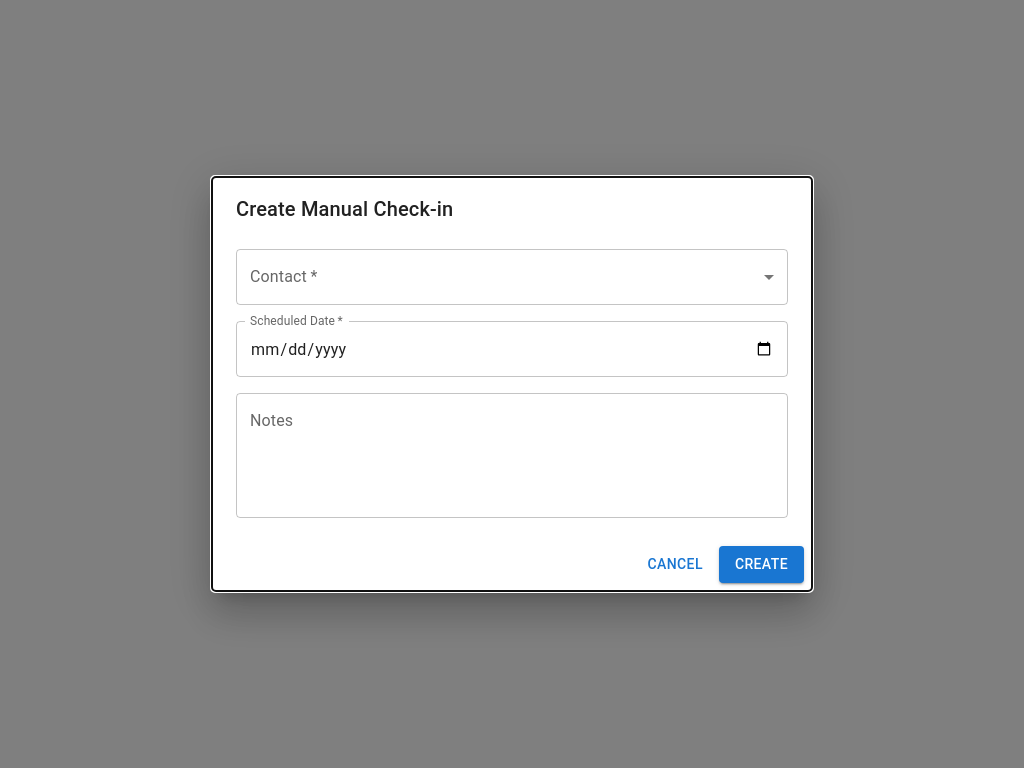
Test: CreateCheckInModal › should display loading state when saving
The image size is (1024, 768).
Click the dropdown named "contact".
click(512, 277)  # box [236, 249, 788, 305]
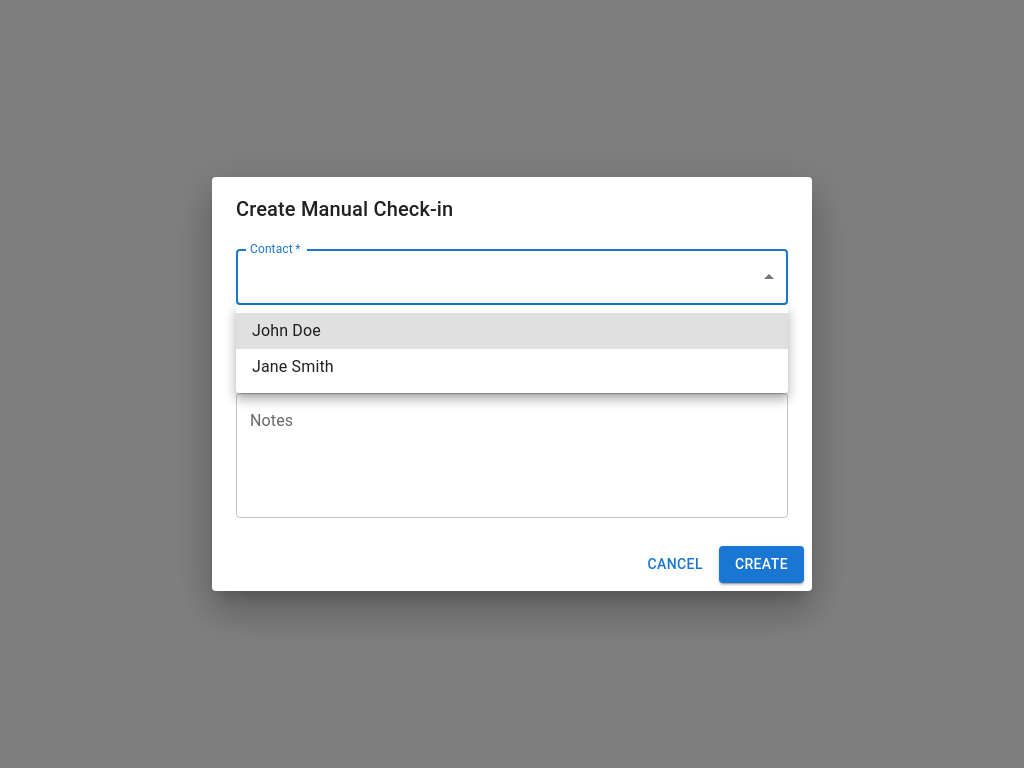
Click the option "John Doe".
click(286, 330)  # box [236, 313, 788, 349]
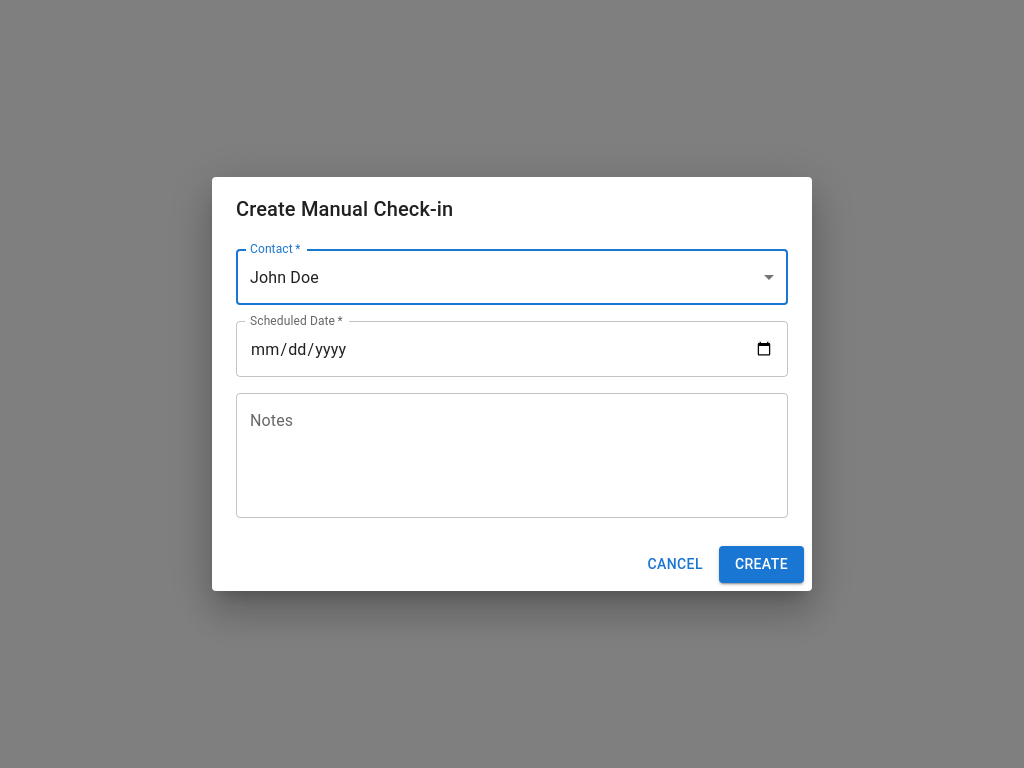
Type "2026-03-15" into the date field labelled "Scheduled Date *".
click(512, 349); type("2026-03-15")  # box [236, 321, 788, 377]
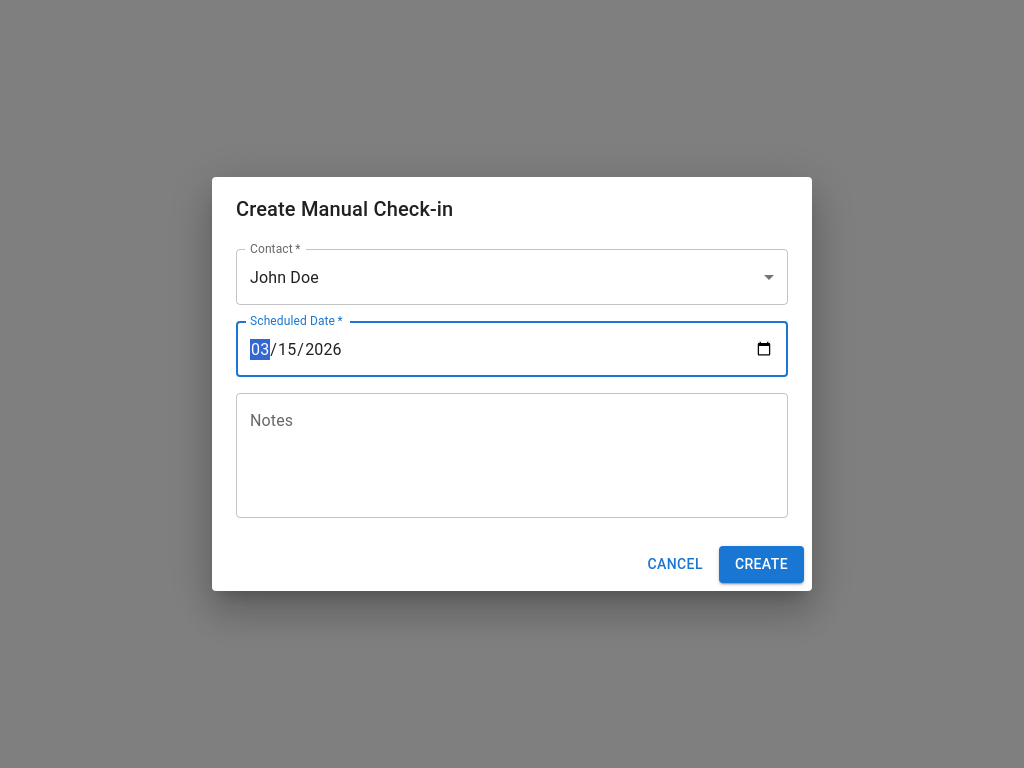
Click the button "Create".
click(761, 565)  # box [719, 546, 804, 583]
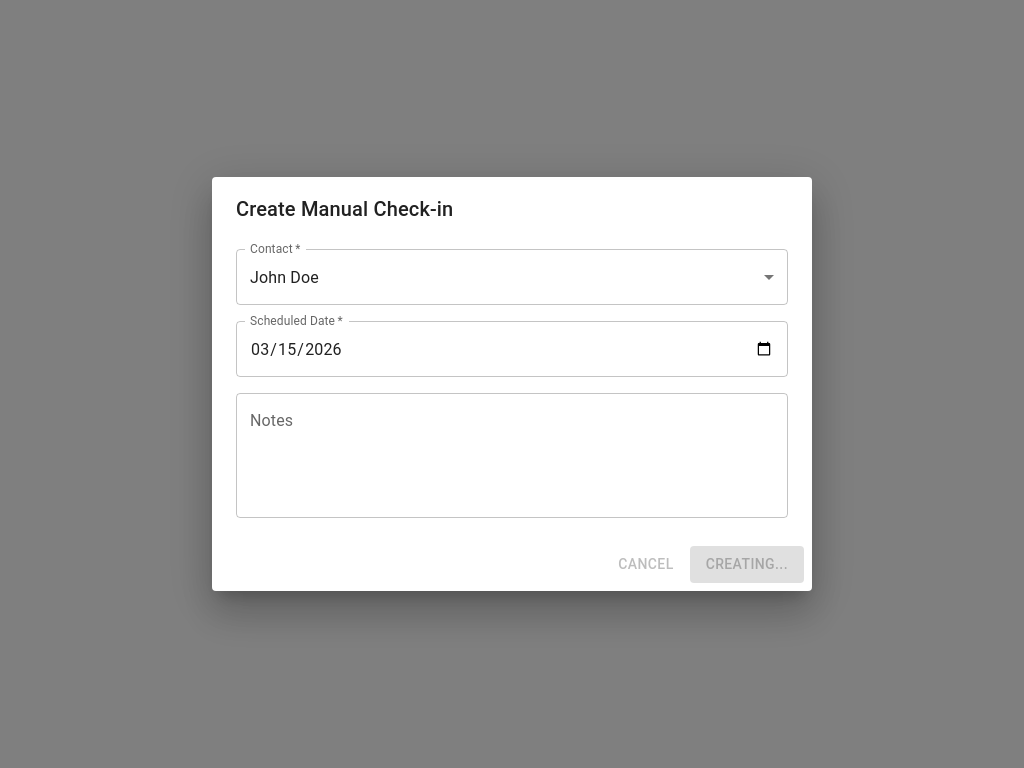
Now the button "Creating..." is disabled, box [690, 546, 804, 583]
